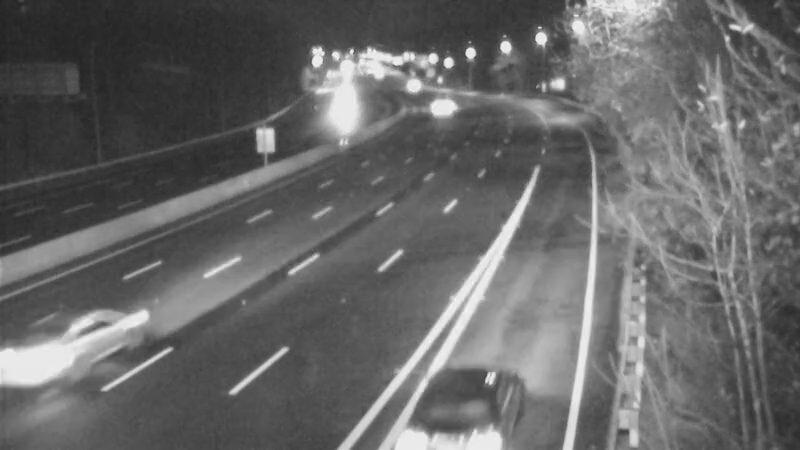vehicle: (1, 308, 103, 418), (393, 357, 503, 450), (413, 85, 463, 135)
